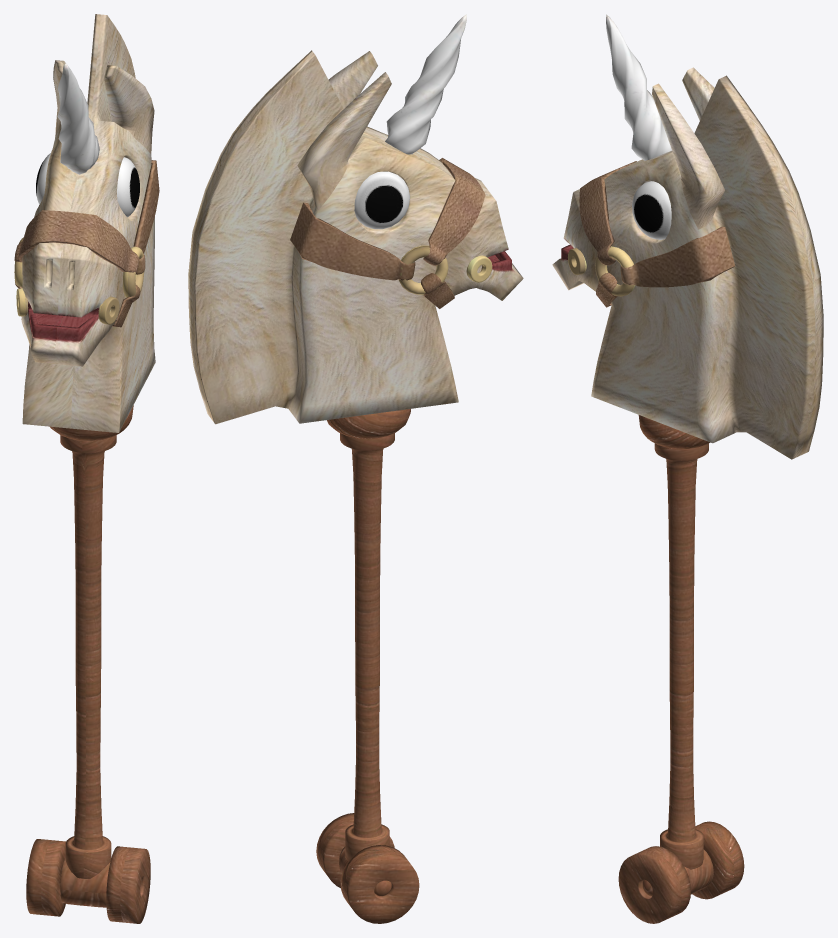
File: prueba_horse12.gltf
3 renders of one model, left to right at view 1: azimuth 30°, elevation 25°; view 2: azimuth 150°, elevation 25°; view 3: azimuth 270°, elevation 25°, orthographic. The views are drawn at different scales.
Parts seen in each view (by area): view 1: pCylinder7; view 2: pCylinder7; view 3: pCylinder7.
Boxes of the visible parts, x1,y1,x2,y2 form: pCylinder7: (14,14,159,923); pCylinder7: (188,14,523,923); pCylinder7: (552,14,823,923).
Size of what is drawn, in the model's own units: 20.05 by 75.22 by 21.47.
1 material, 1 textured.
